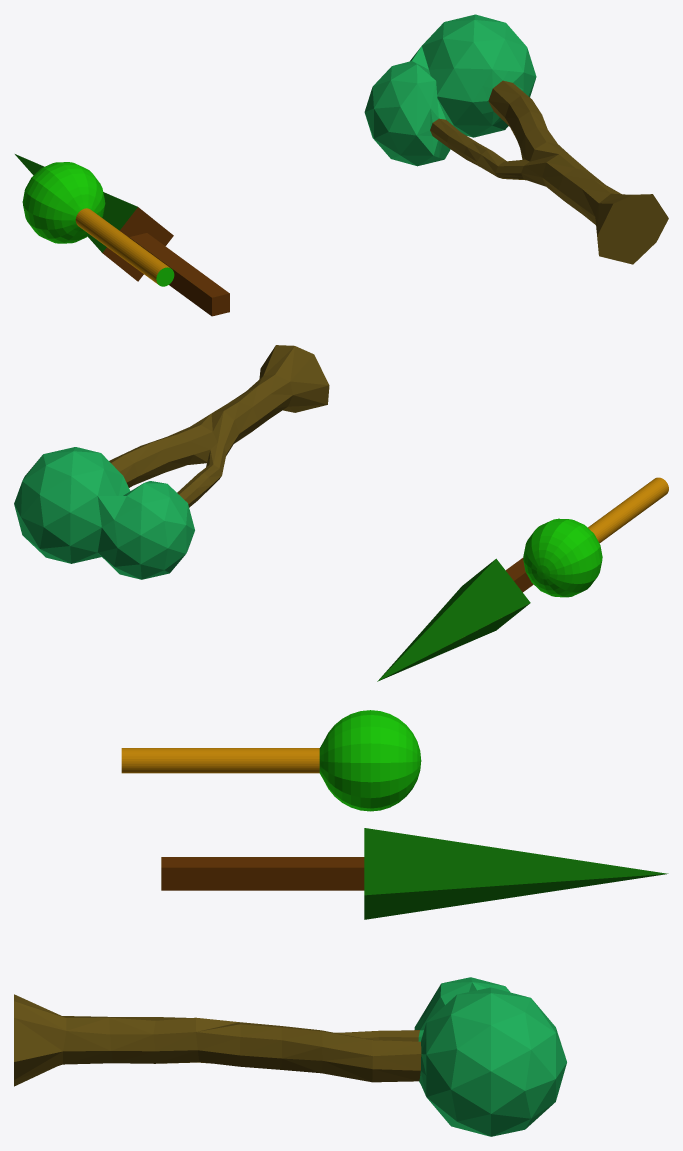
File: land-set-1a.dae
3 renders of one model, top to bottom at view 1: azimuth 30°, elevation 25°; view 2: azimuth 150°, elevation 25°; view 3: azimuth 270°, elevation 25°, orthographic. The views are drawn at different scales.
Visible parts, largest first — view 1: tree-3, tree-1, tree-2; view 2: tree-3, tree-1, tree-2; view 3: tree-3, tree-2, tree-1.
Boxes of the visible parts, left/top/right/bottom form: tree-3: left=364, top=14, right=668, bottom=264; tree-1: left=22, top=162, right=174, bottom=286; tree-2: left=15, top=154, right=229, bottom=316; tree-3: left=14, top=345, right=329, bottom=579; tree-1: left=523, top=477, right=668, bottom=597; tree-2: left=377, top=558, right=533, bottom=681; tree-3: left=14, top=977, right=566, bottom=1136; tree-2: left=161, top=828, right=668, bottom=919; tree-1: left=121, top=710, right=421, bottom=811.
Size of the model in its own units: 7.63 by 6.45 by 1.76.
Materials: 3 (3 with a texture image).
